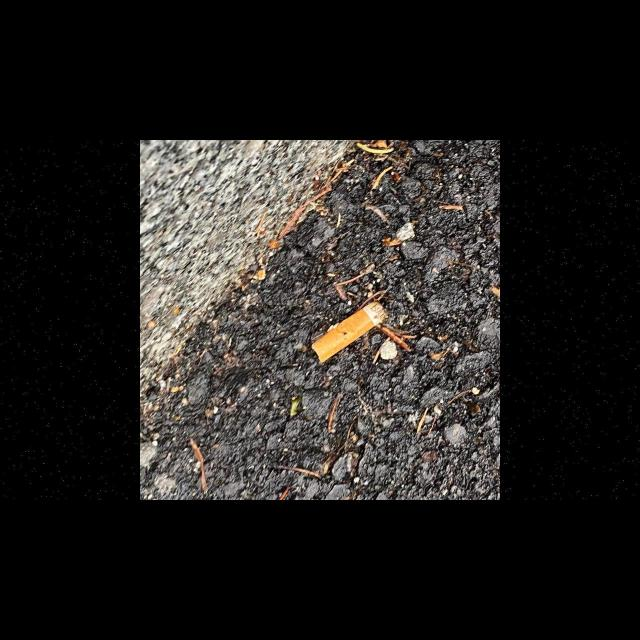cigarette: (311, 300, 388, 363)
